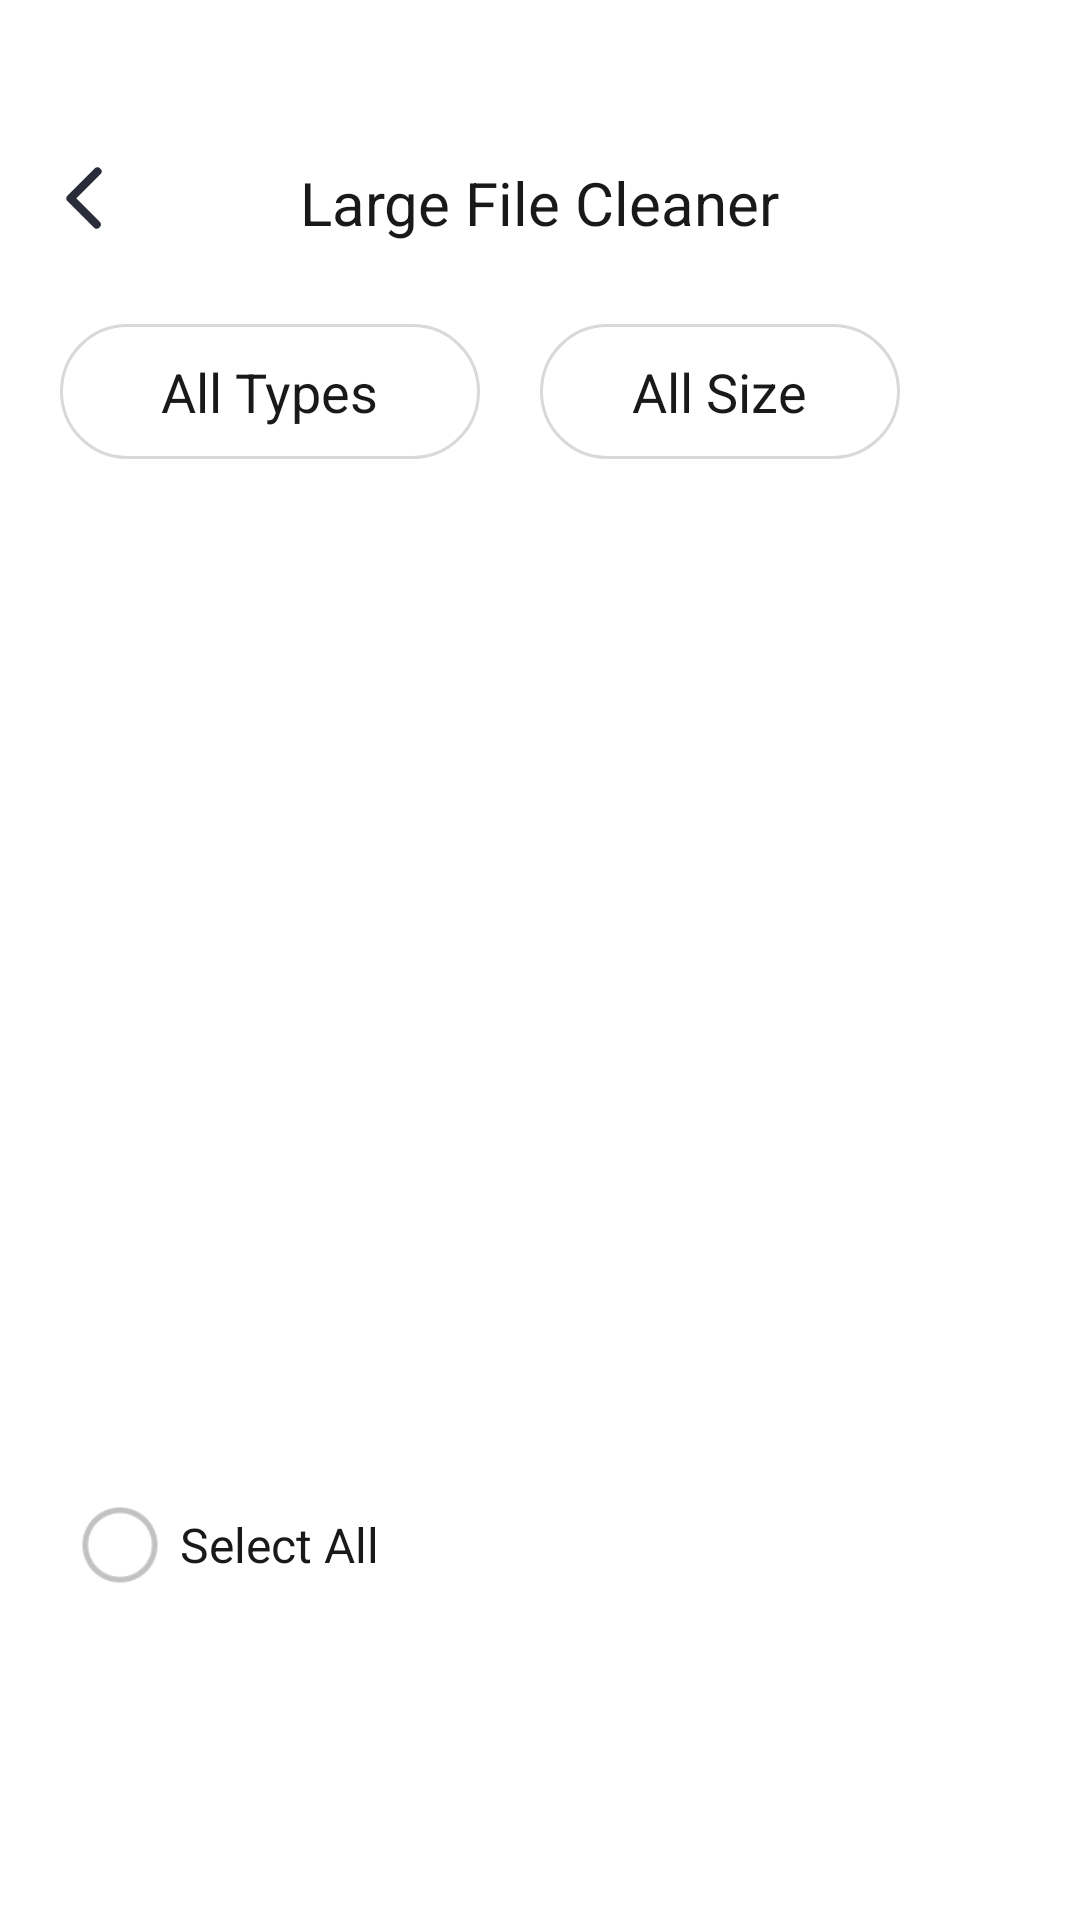

Screen size 1080px×1920px. Icon name, then its box in pixels as (x1, y1, x2, y2):
back: (66, 167, 102, 229)
check nor: (82, 1507, 158, 1583)
